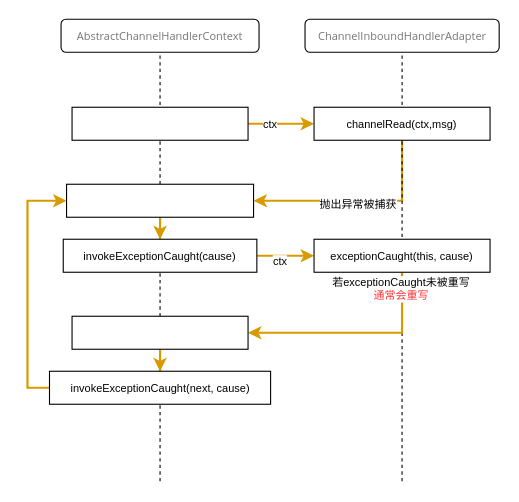
This 519x502 diagram has some shape labels left out. Each missing label, with the centre of its shape:
"fireExceptionCaught(cause)" goes at point (159, 332).
"invokeChannelRead（msg)" goes at point (159, 123).
"notifyHandlerException(cause)" goes at point (159, 200).
